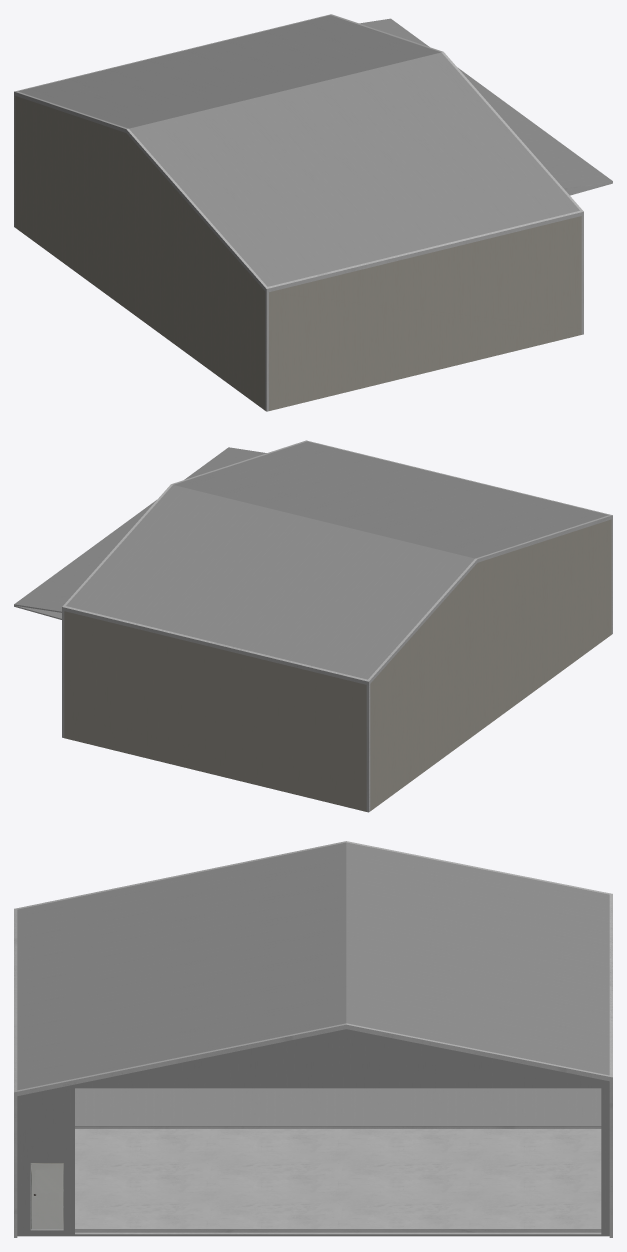
Rendered from gen_open_hangar01-18x13x5-cbj_LOD02.gltf.
3 views of the same model, one above another, from view 1: azimuth 30°, elevation 25°; view 2: azimuth 150°, elevation 25°; view 3: azimuth 270°, elevation 25° (orthographic). The views are drawn at different scales.
Parts seen in each view (by area): view 1: Cube.015; view 2: Cube.015; view 3: Cube.015.
Boxes of the visible parts, left/top/right/bottom form: Cube.015: left=14, top=14, right=612, bottom=411; Cube.015: left=14, top=440, right=612, bottom=812; Cube.015: left=14, top=841, right=612, bottom=1237.
Size of the model in its own units: 15.47 by 7.15 by 18.2.
